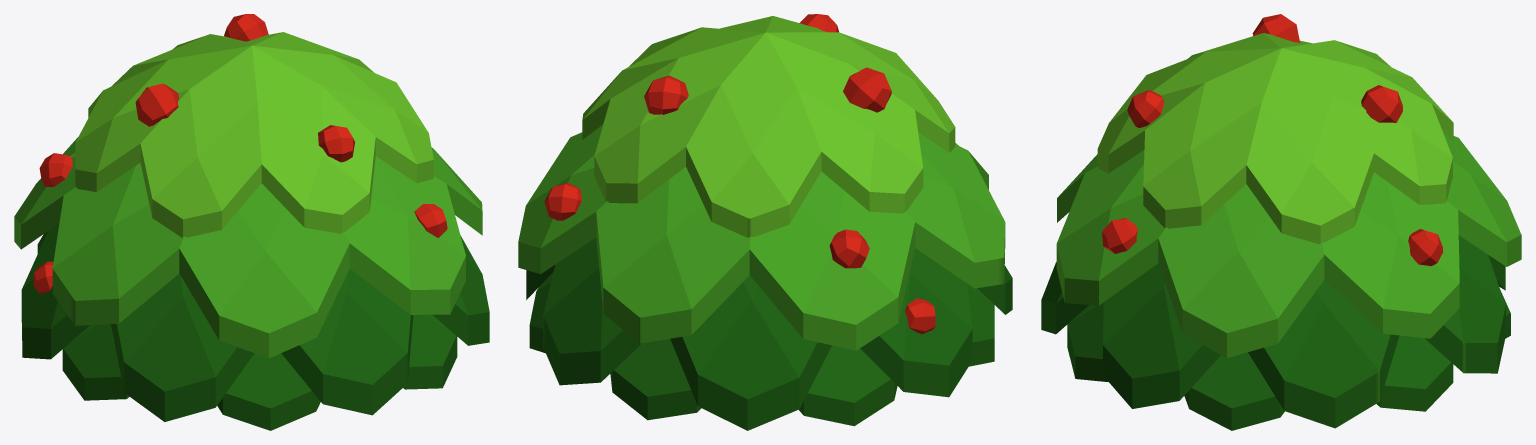
Rendered from ArbustoGrande.fbx.
3 renders of one model, left to right at view 1: azimuth 30°, elevation 25°; view 2: azimuth 150°, elevation 25°; view 3: azimuth 270°, elevation 25°, orthographic. The views are drawn at different scales.
Visible parts, largest first — view 1: Cone.001; view 2: Cone.001; view 3: Cone.001.
Boxes of the visible parts, left/top/right/bottom form: Cone.001: left=14, top=14, right=489, bottom=430; Cone.001: left=518, top=14, right=1012, bottom=430; Cone.001: left=1041, top=14, right=1521, bottom=430.
Bounding box in the file's own units: 153 × 104 × 156.
Materials: 1 (1 with a texture image).
